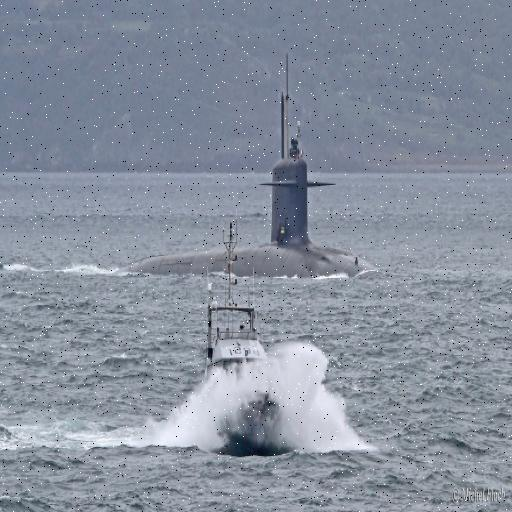submarine: (131, 39, 373, 275)
